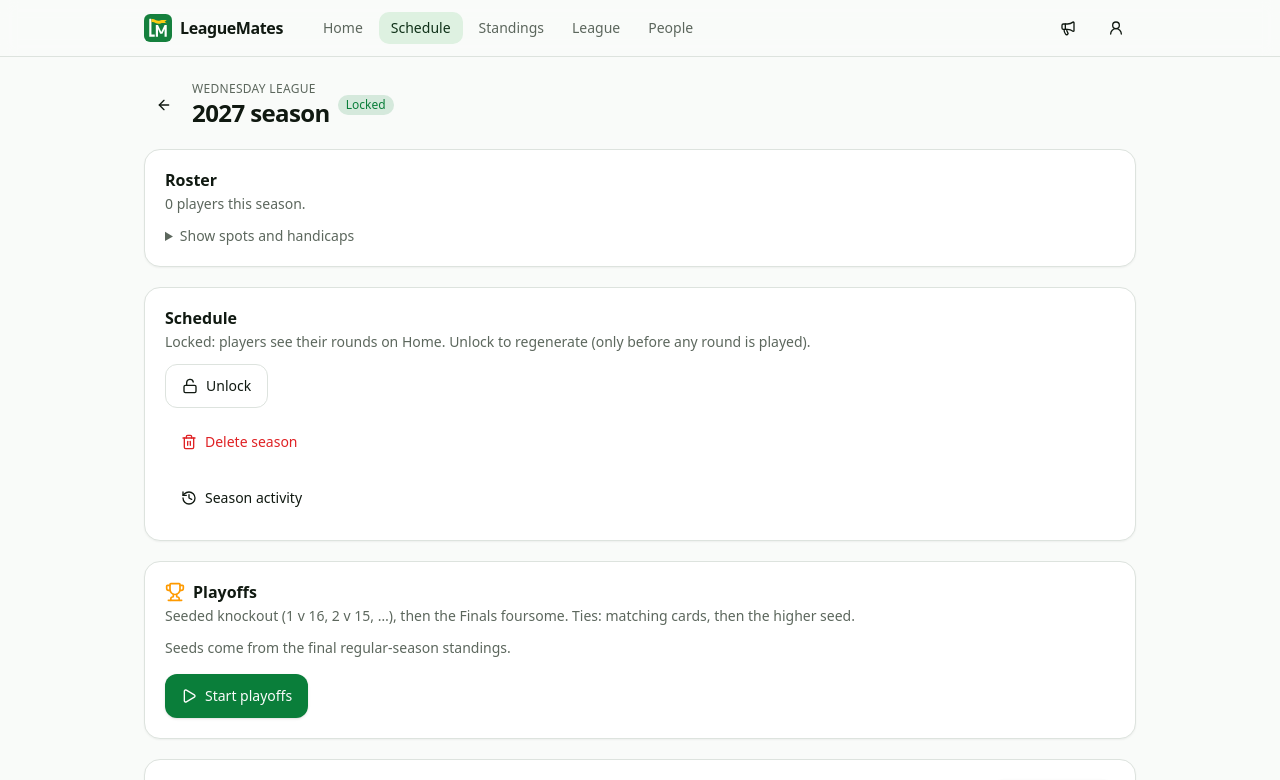
Scenario: playoffs card › admins start the playoffs when the regular season is done
The image size is (1280, 780).
Click the button "Start playoffs" at (237, 696), box [165,674,308,718]
(page scrolled)
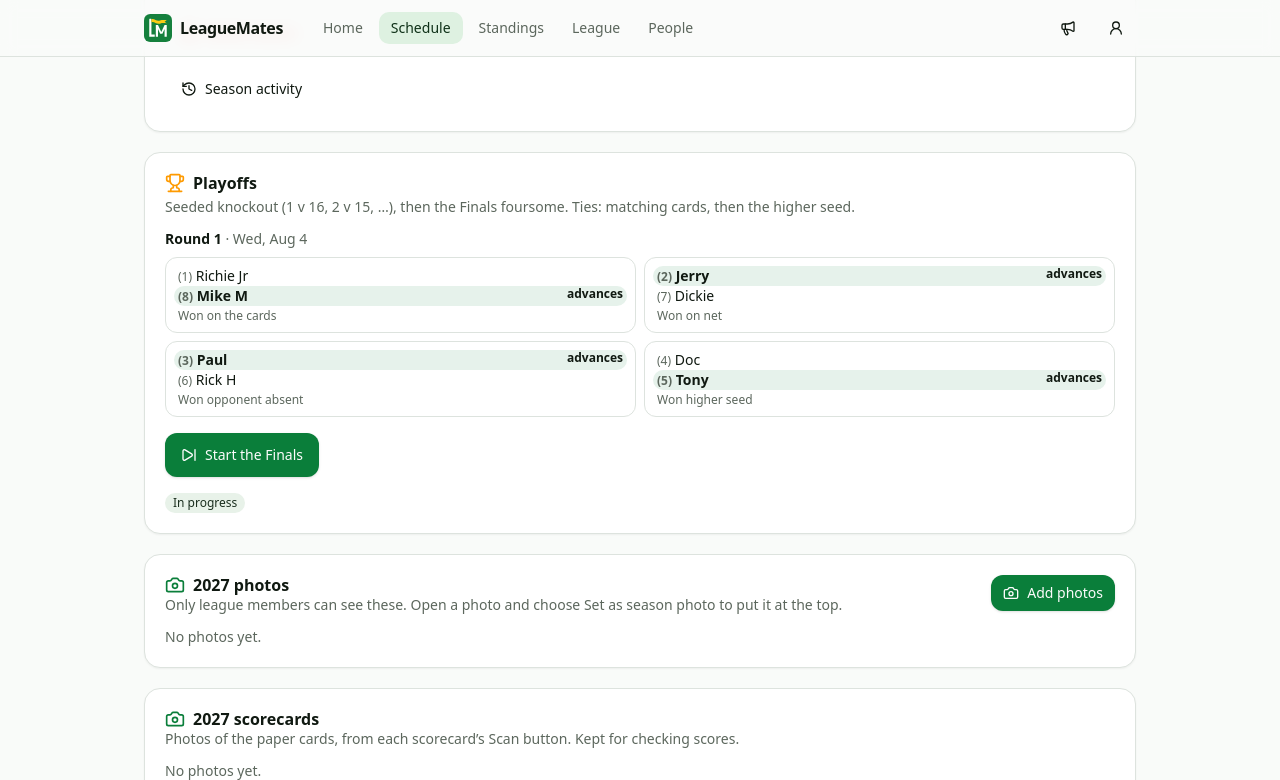
Expected: the text "Won on the cards" is shown, [178,307,276,324]
Expected: the text "Won opponent absent" is shown, [178,391,303,408]
